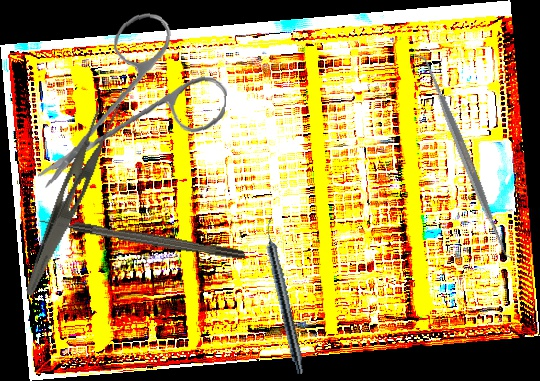Dressing Forceps: (23, 93, 124, 305)
Handpiece: (258, 215, 310, 376)
Hook Surgical: (37, 214, 246, 262)
Iris Scissors: (36, 3, 234, 204)
Spatula Surgical: (411, 47, 518, 265)
